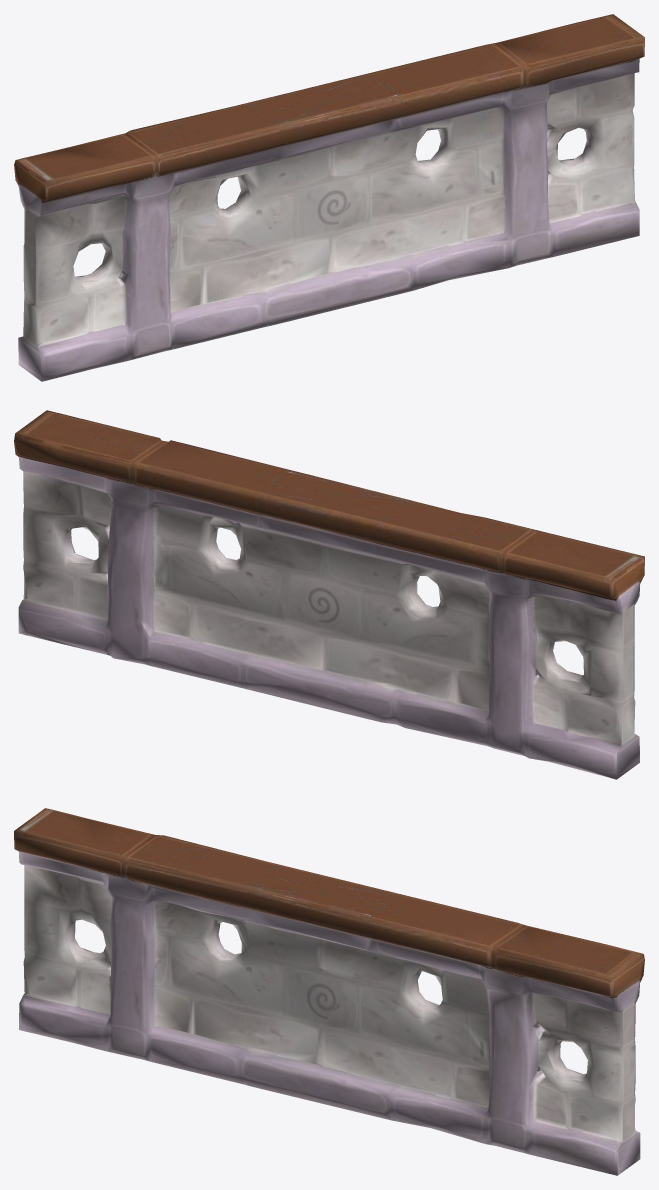
Rendered from el_muro_ar.glb.
3 renders of one model, top to bottom at view 1: azimuth 30°, elevation 25°; view 2: azimuth 150°, elevation 25°; view 3: azimuth 330°, elevation 25°, orthographic.
Visible parts, largest first — view 1: baixa; view 2: baixa; view 3: baixa.
Boxes of the visible parts, x1,y1,x2,y2 form: baixa: (14,14,644,381); baixa: (14,410,644,779); baixa: (14,808,644,1175).
Bounding box in the file's own units: 1 × 0.3236 × 0.0974.
Materials: 1 (1 with a texture image).
